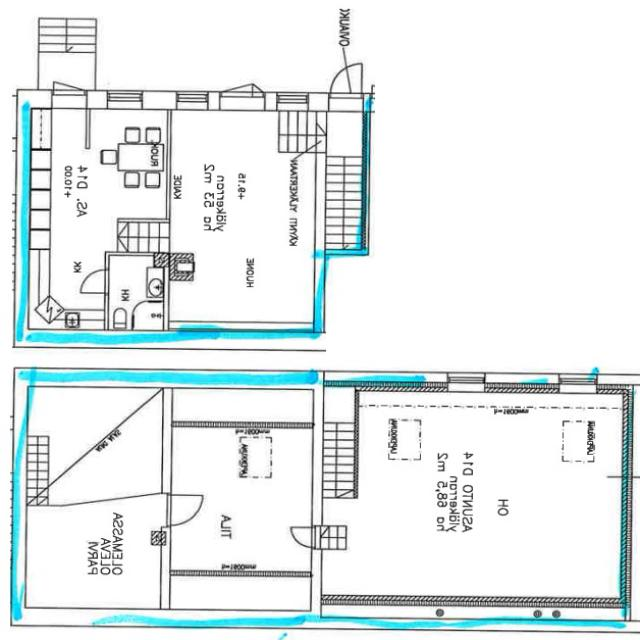door: (161, 488, 210, 532), (324, 59, 370, 101), (75, 269, 113, 295), (48, 79, 90, 99), (290, 522, 314, 552)
window: (440, 366, 492, 400), (553, 372, 601, 402), (172, 87, 215, 117), (264, 89, 314, 111), (100, 88, 148, 108)
